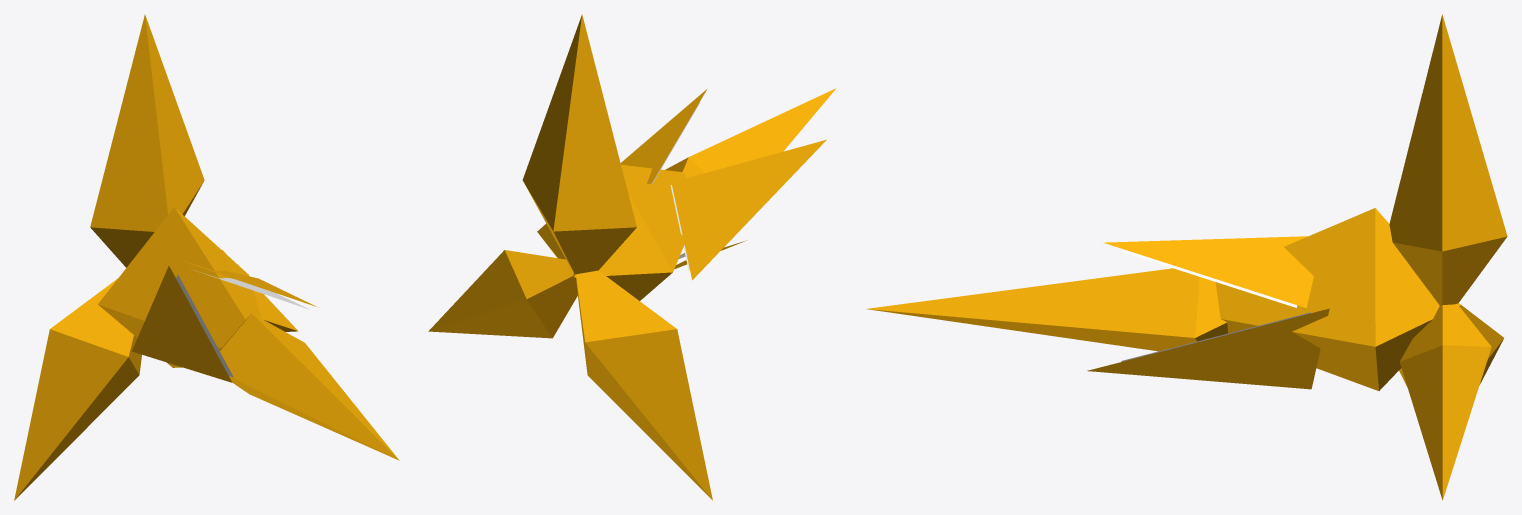
The model's file is SmallMuzzleFlash.glb.
The picture shows the model from 3 angles, left to right: view 1: azimuth 30°, elevation 25°; view 2: azimuth 150°, elevation 25°; view 3: azimuth 270°, elevation 25°; orthographic projection. The views are drawn at different scales.
Parts seen in each view (by area): view 1: Cube.001, Cube; view 2: Cube.001; view 3: Cube.001, Cube.
Part boxes in pixels (bbox=[...]): Cube.001: bbox=[14, 14, 399, 500]; Cube: bbox=[176, 270, 309, 377]; Cube.001: bbox=[428, 14, 836, 500]; Cube.001: bbox=[867, 14, 1507, 500]; Cube: bbox=[1120, 251, 1310, 361].
Size of the model in its own units: 0.3109 by 0.4747 by 0.5362.
Materials: 2 (1 with a texture image).
